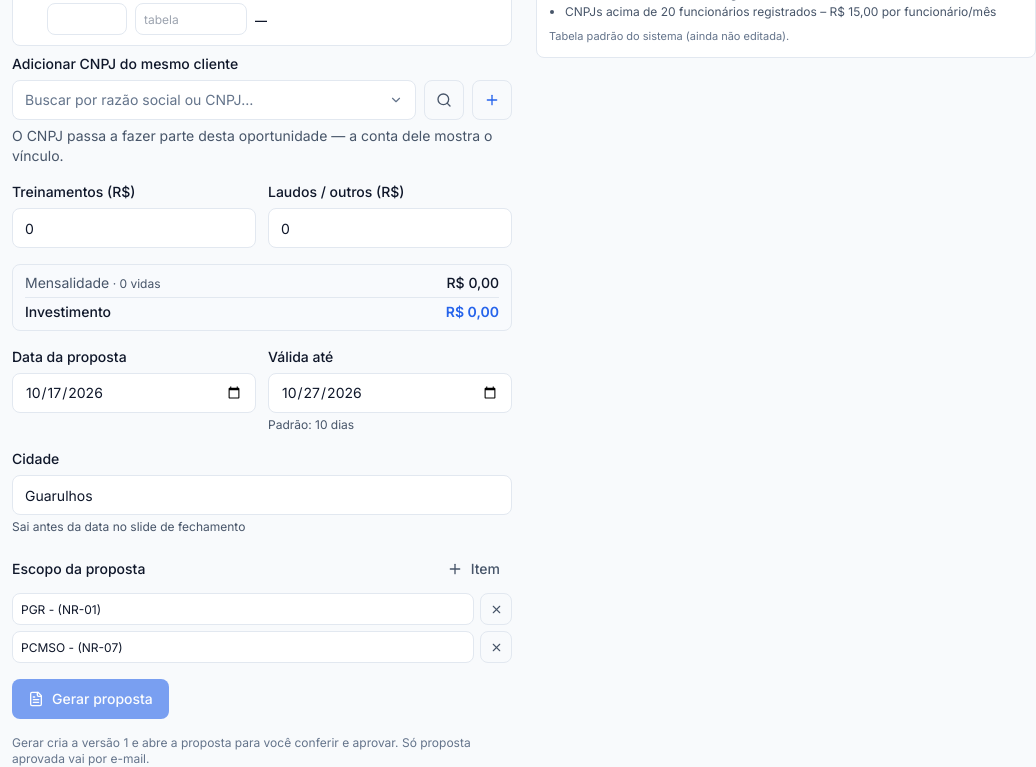
Test: AbaProposta — formulário › itens do escopo podem ser adicionados e removidos
(page scrolled)
Expected: the field named "Item 1 do escopo" is shown, top-left (12, 593), bottom-right (474, 625)
What coordinates should you click on to do the following:
click the button "Item"
I would click on:
 (473, 569)
Its box is top-left (435, 551), bottom-right (512, 587).
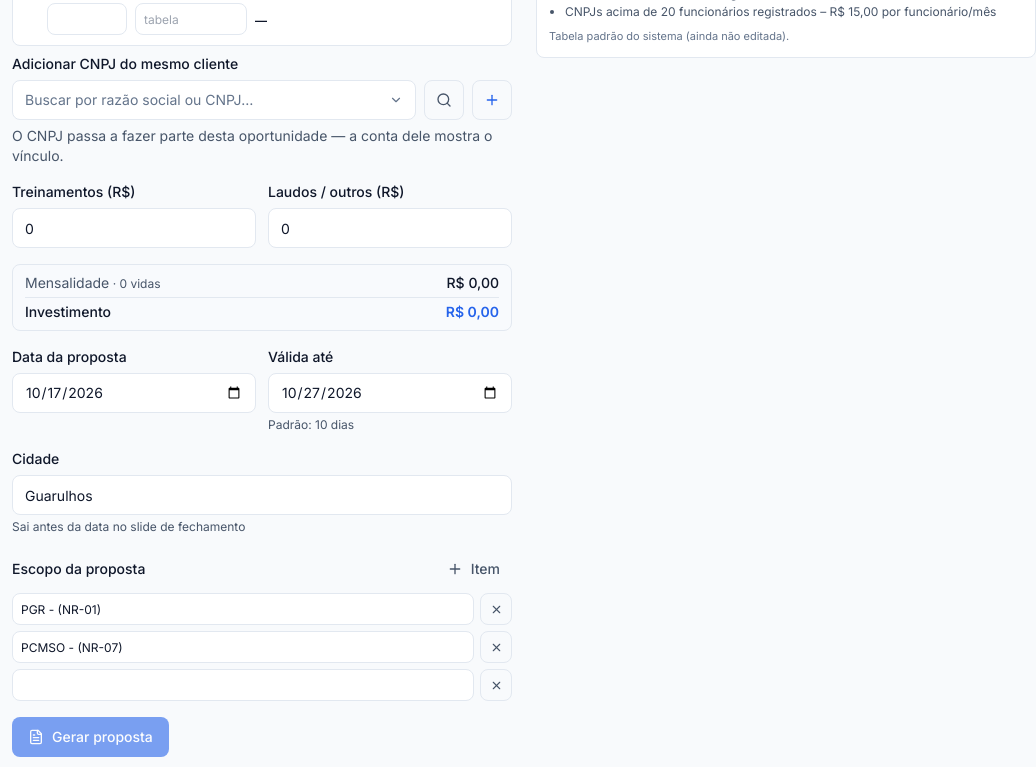
Now the field named "Item 3 do escopo" is shown, box top-left (12, 669), bottom-right (474, 701)
What coordinates should you click on to do the following:
click the button named "Remover item 1"
I would click on:
 (496, 609)
Its box is top-left (480, 593), bottom-right (512, 625).
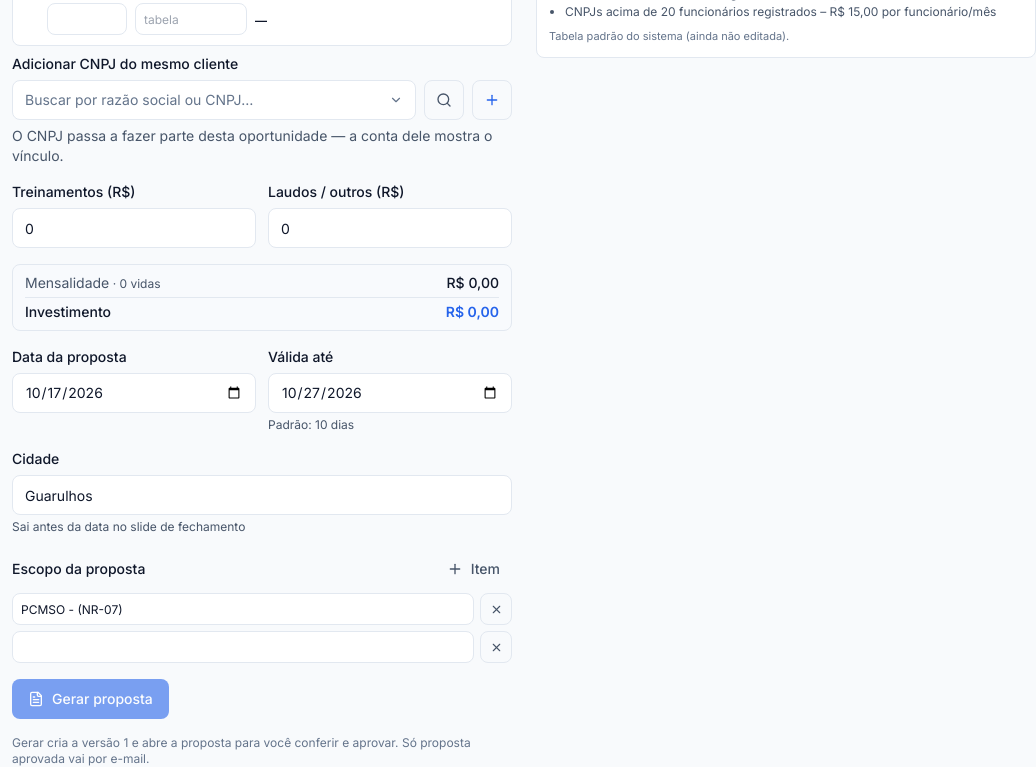
Now the field named "Item 1 do escopo" holds "PCMSO - (NR-07)", box top-left (12, 593), bottom-right (474, 625)
